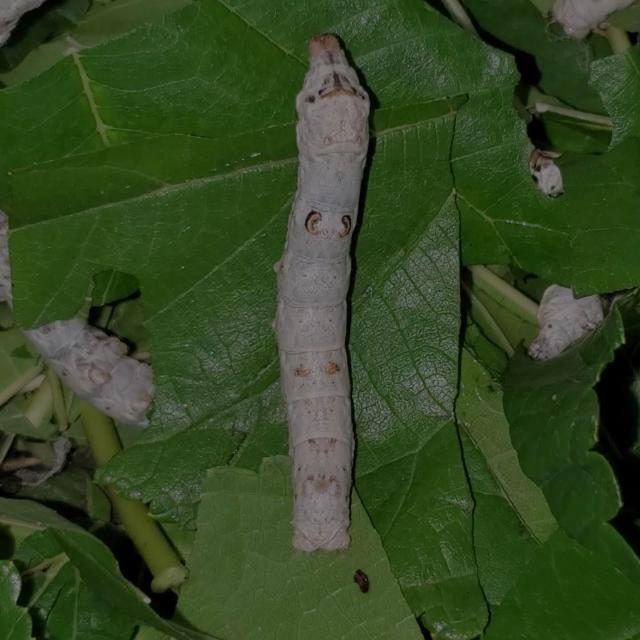Healthy: (261, 24, 407, 558)
